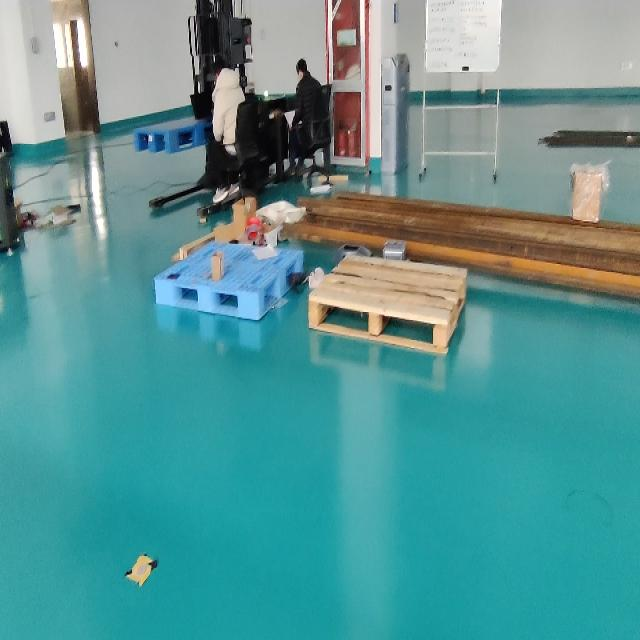euro: (309, 255, 466, 353)
